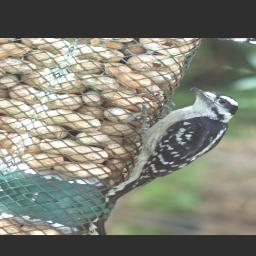Woodpecker: (80, 76, 256, 224)
